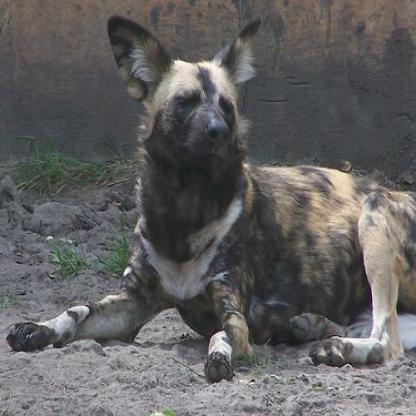African_hunting_dog: (6, 14, 414, 386)
